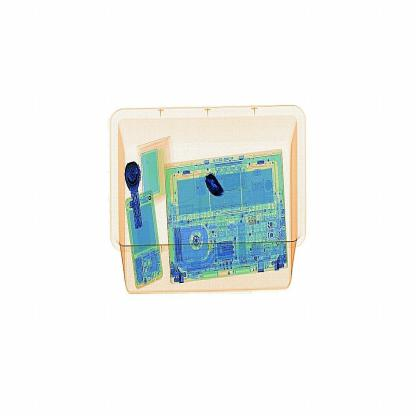scissors: (192, 156, 231, 214)
